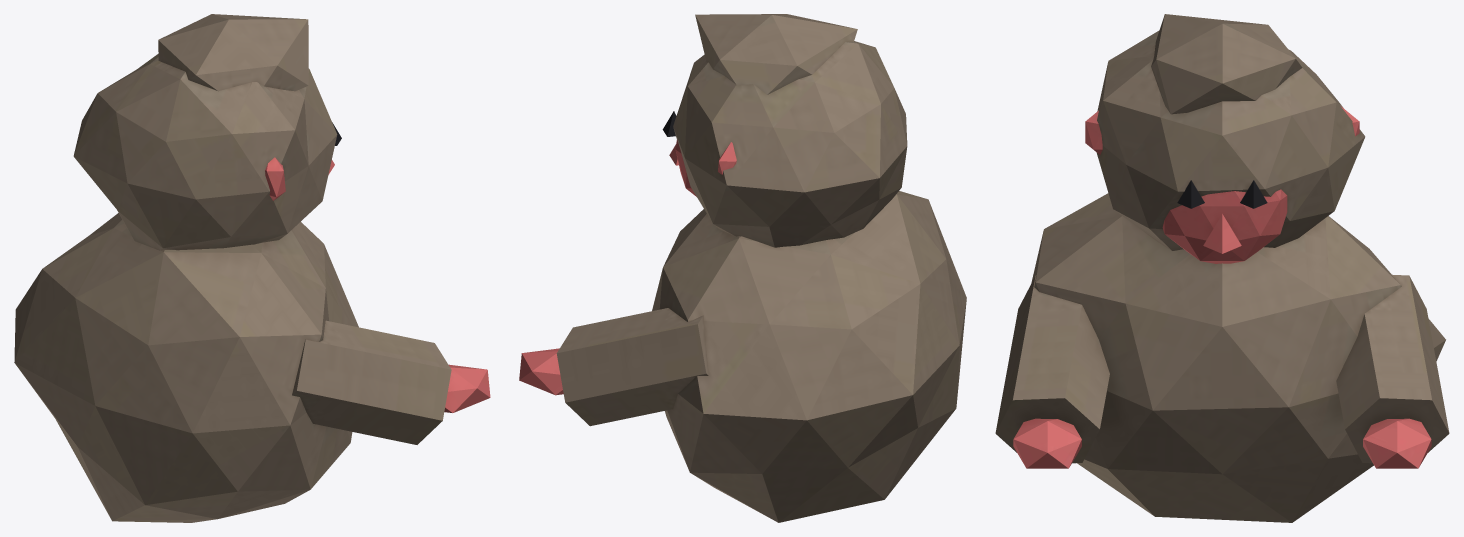
File: apa_tex.glb
3 views of the same model, side by side, from view 1: azimuth 30°, elevation 25°; view 2: azimuth 150°, elevation 25°; view 3: azimuth 270°, elevation 25° (orthographic). The views are drawn at different scales.
Visible parts, largest first — view 1: apa; view 2: apa; view 3: apa.
Part boxes in pixels (x1,y1,x2,y2): apa: (14, 14, 490, 522); apa: (519, 14, 966, 522); apa: (995, 14, 1449, 522).
Size of the model in its own units: 0.4727 by 0.6299 by 0.5078.
Materials: 3 (2 with a texture image).
